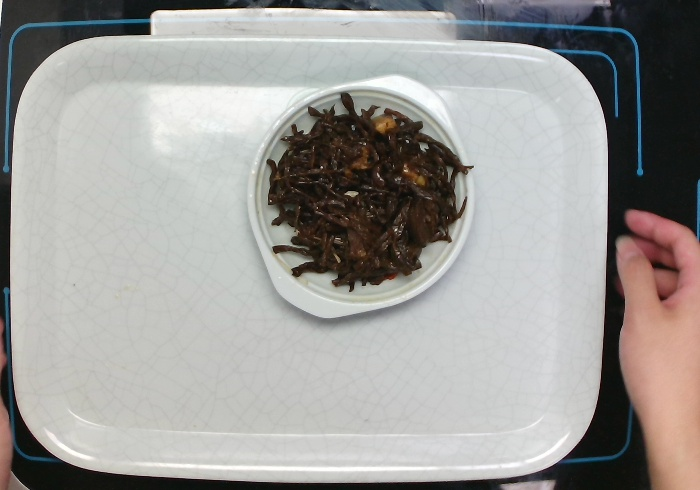JYsf-Shuang_Er_Pan: (242, 70, 478, 331)
